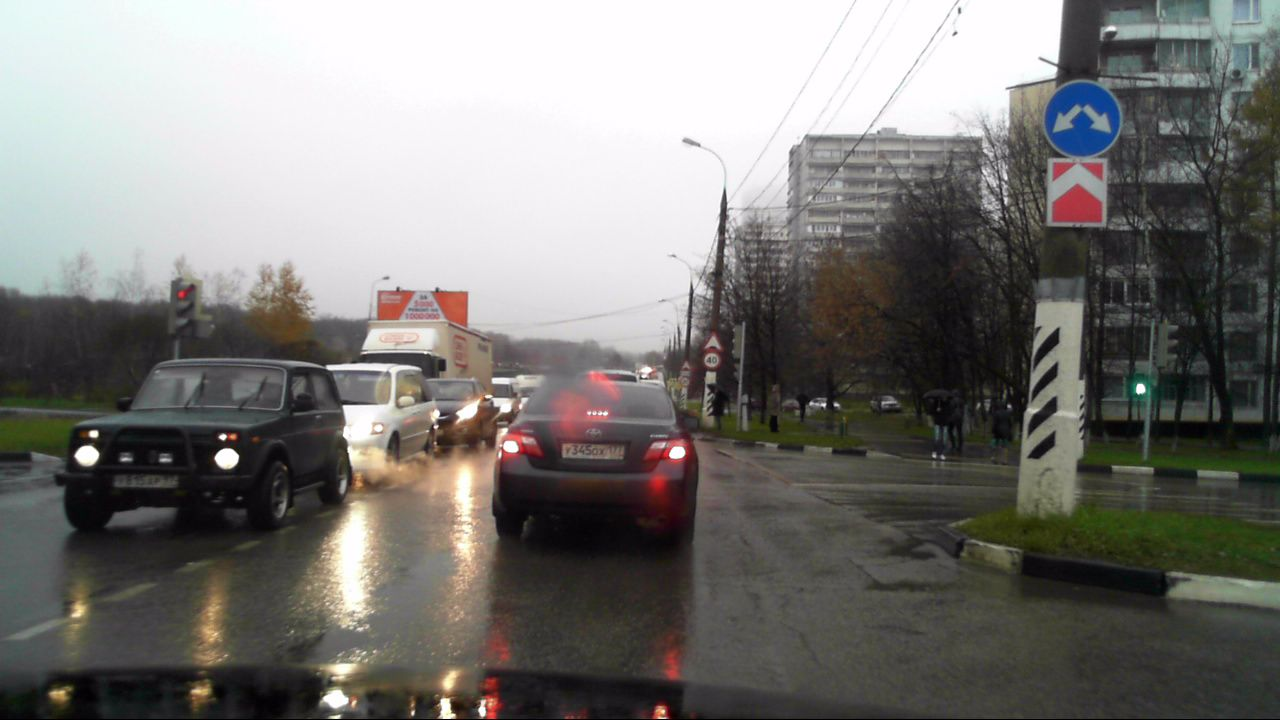speed_warning_40: (703, 352, 720, 368)
